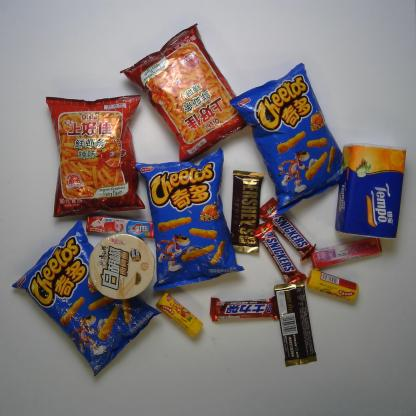Candy: (155, 290, 204, 338), (312, 236, 382, 268), (86, 213, 156, 240), (306, 267, 359, 302)
Chocolate: (273, 280, 318, 369), (258, 197, 316, 262), (252, 220, 309, 285), (230, 168, 266, 255), (210, 296, 279, 322)
Instant Noodles: (88, 232, 156, 299)
Puffed Food: (12, 218, 162, 378), (228, 62, 347, 216), (119, 21, 248, 162), (135, 146, 245, 292), (46, 94, 146, 218)
Tissue: (334, 143, 408, 240)
